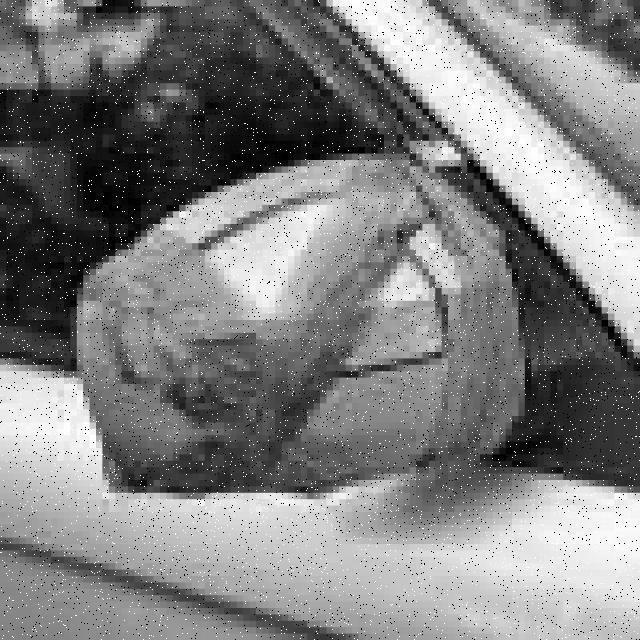Sidemirror-Damage: (58, 154, 512, 506)
